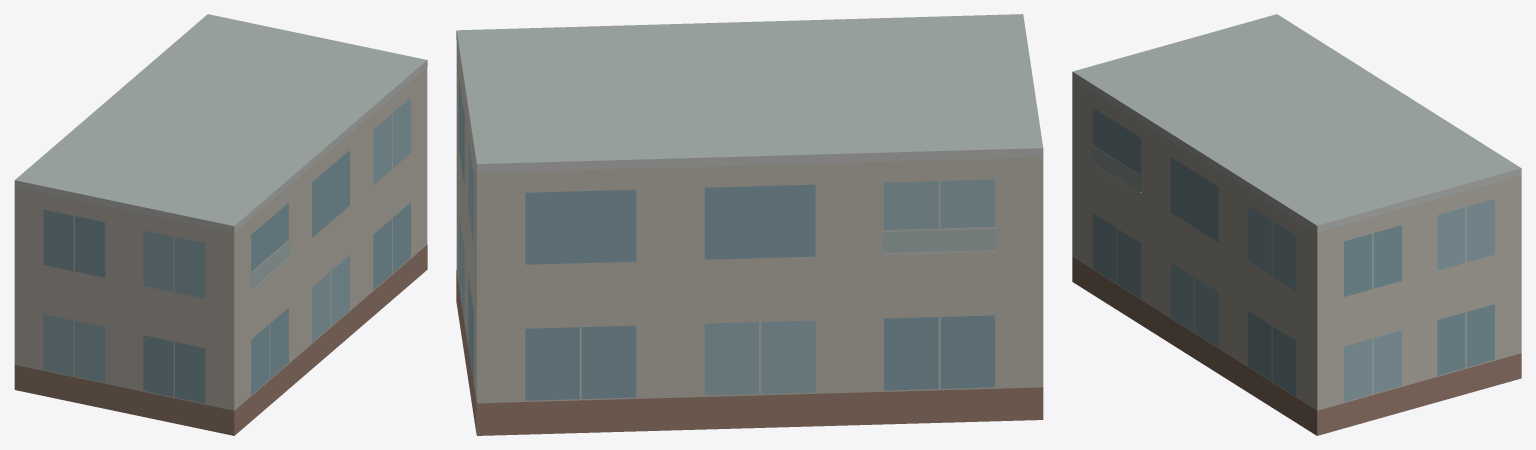
Rendered from survey-upis-32624063.glb.
3 views of the same model, side by side, from view 1: azimuth 30°, elevation 25°; view 2: azimuth 150°, elevation 25°; view 3: azimuth 270°, elevation 25° (orthographic). The views are drawn at different scales.
Parts seen in each view (by area): view 1: survey-upis-32624063.tmp; view 2: survey-upis-32624063.tmp; view 3: survey-upis-32624063.tmp.
Part boxes in pixels (bbox=[...]): survey-upis-32624063.tmp: bbox=[14, 14, 427, 435]; survey-upis-32624063.tmp: bbox=[456, 14, 1043, 435]; survey-upis-32624063.tmp: bbox=[1072, 14, 1521, 435].
Size of the model in its own units: 15.99 by 7.4 by 14.34.
